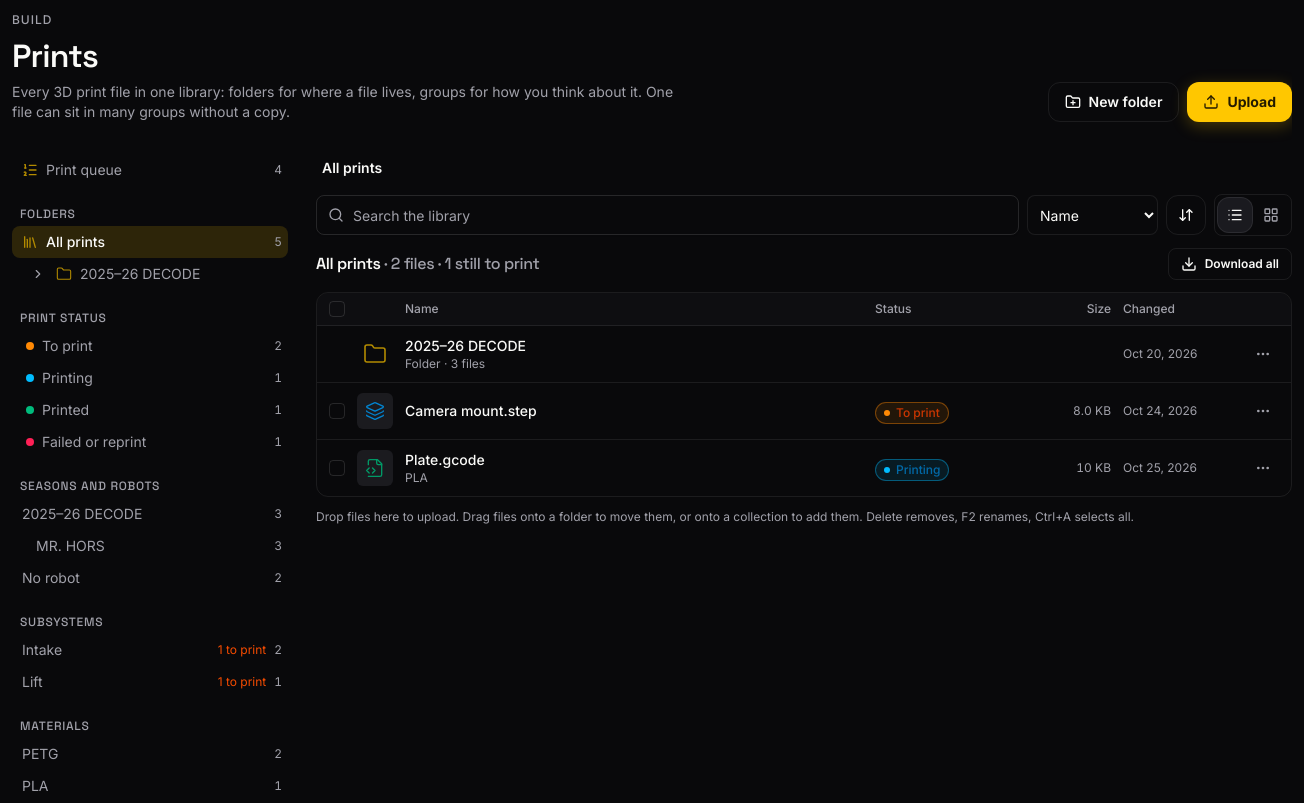
Test: Prints explorer › combines groups from the sidebar: Intake + PETG + To print
Check: the heading "All prints · 2 files · 1 still to print" is shown, box x1=316 y1=252 x2=539 y2=276
What coordinates should you click on to do the following:
click the button named "Intake:"
I would click on:
 (42, 650)
Its box is x1=16 y1=634 x2=288 y2=666.
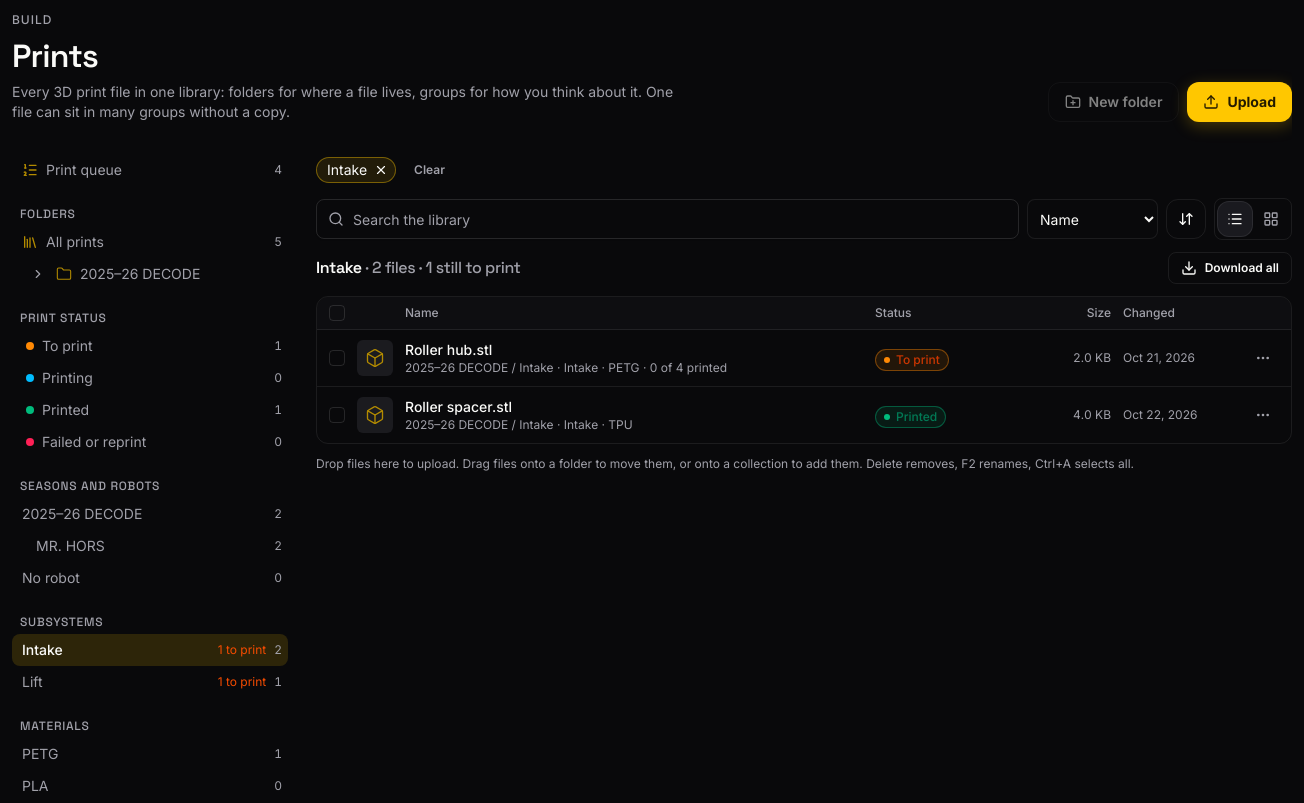
Check: the heading "Intake · 2 files · 1 still to print" is shown, box x1=316 y1=256 x2=520 y2=280
What coordinates should you click on to do the following:
click the button named "PETG:"
I would click on:
 (40, 754)
Its box is x1=16 y1=738 x2=288 y2=770.
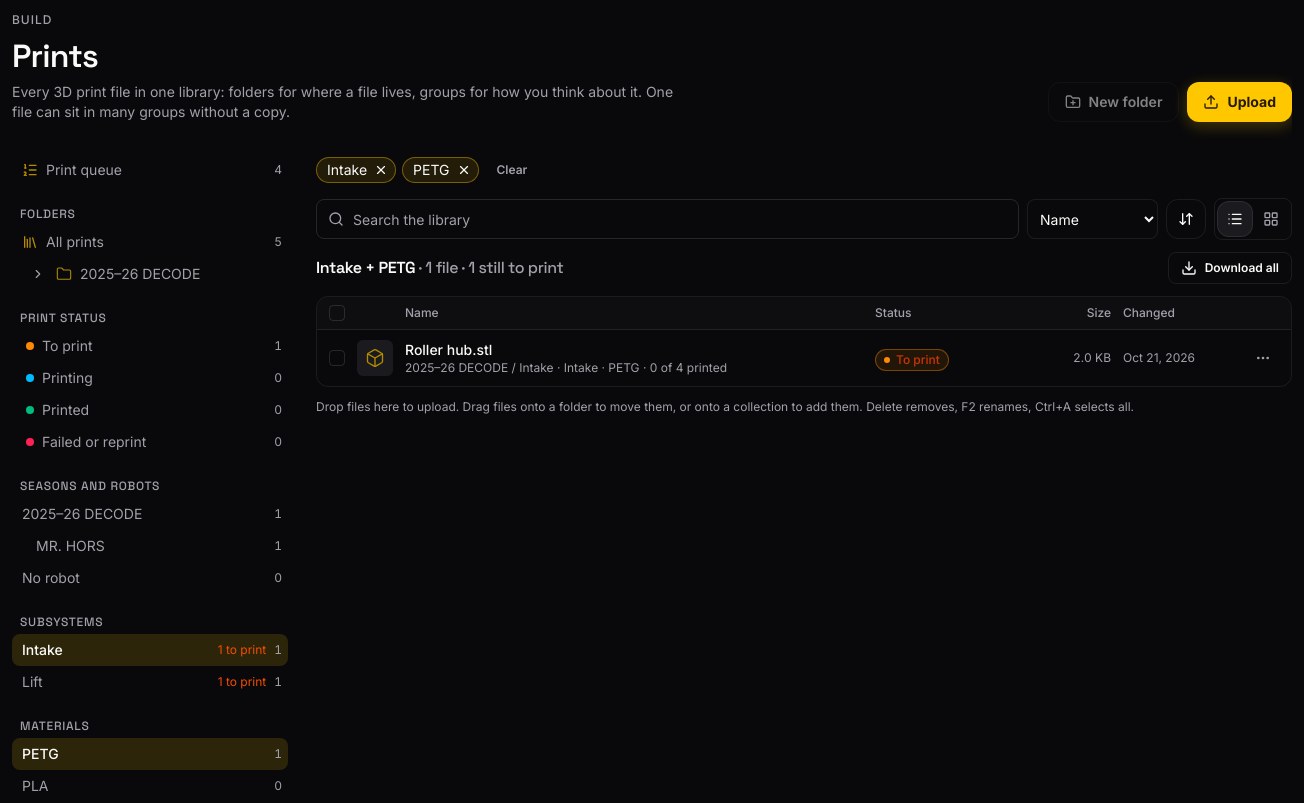
What coordinates should you click on to do the following:
click the button named "To print:"
I would click on:
 (67, 346)
Its box is x1=16 y1=330 x2=288 y2=362.
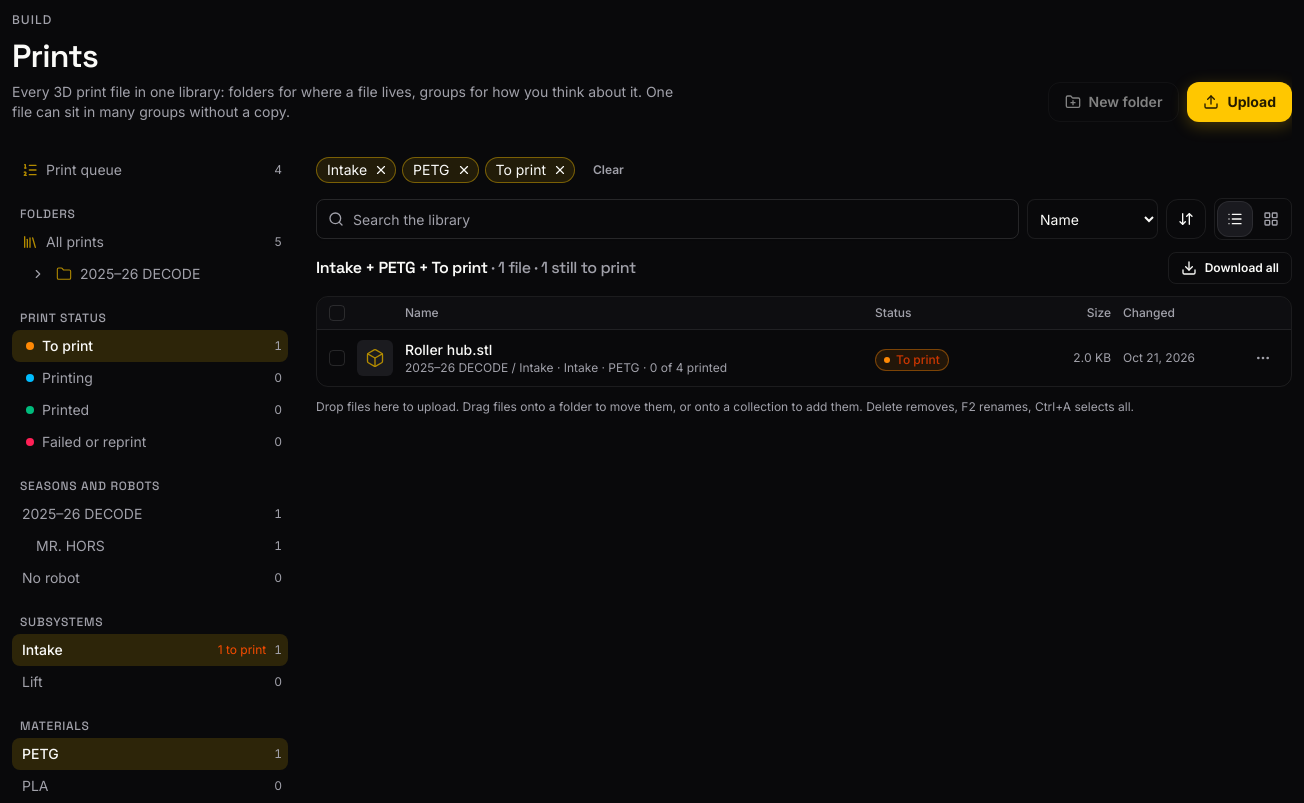
Check: the button that starts with "Roller hub.stl" is shown, box x1=405 y1=336 x2=863 y2=380
Check: the heading "Intake + PETG + To print · 1 file · 1 still to print" is shown, box x1=316 y1=256 x2=636 y2=280
// A chip removes one group.
What coordinates should you click on to do the following:
click the button named "Remove PETG"
I would click on:
 (464, 170)
Its box is x1=454 y1=160 x2=474 y2=180.
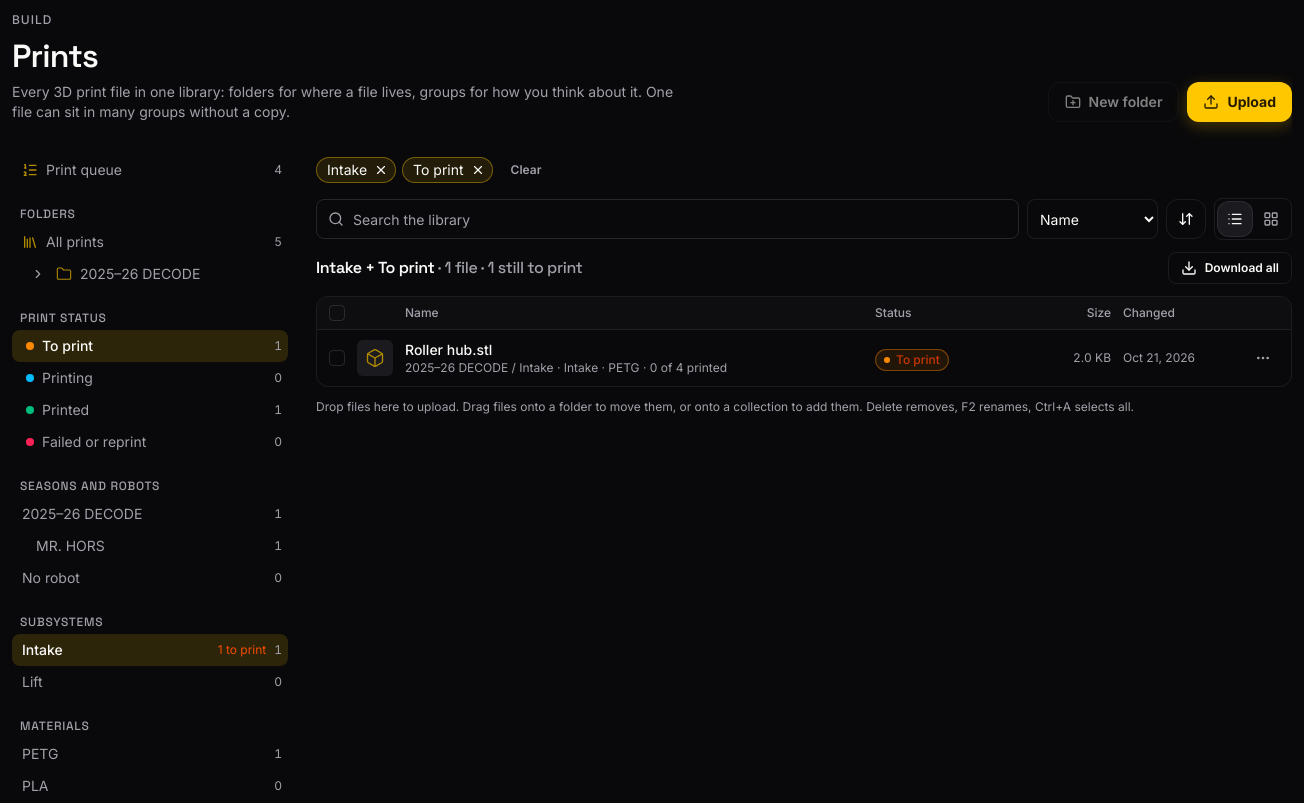
Check: the heading "Intake + To print · 1 file · 1 still to print" is shown, box x1=316 y1=256 x2=583 y2=280
